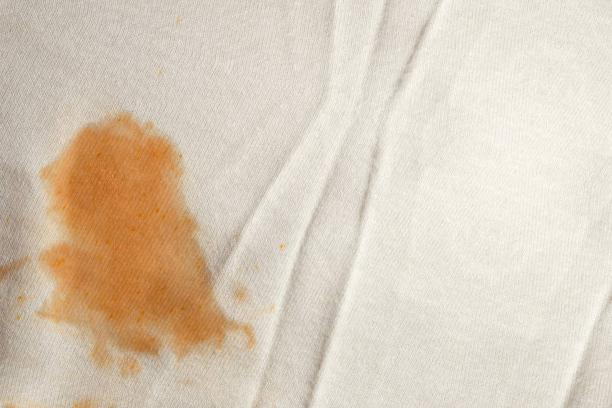stain: (34, 103, 268, 382), (1, 253, 30, 327), (62, 394, 121, 408)
